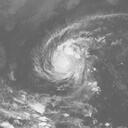cyclone: (40, 30, 94, 87)
